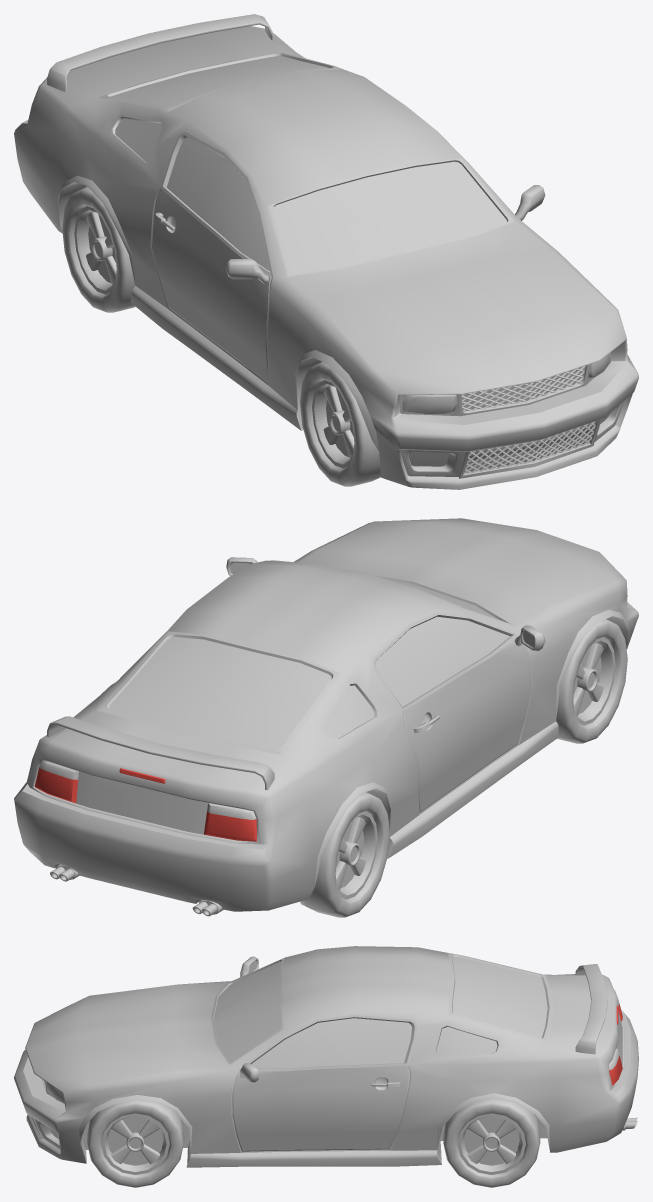
File: SM_Vehicles_05_V1.fbx
The picture shows the model from 3 angles, top to bottom: view 1: azimuth 30°, elevation 25°; view 2: azimuth 150°, elevation 25°; view 3: azimuth 270°, elevation 25°; orthographic projection. The views are drawn at different scales.
Parts seen in each view (by area): view 1: SM_Vehicles_05_V1, SM_Vehicles_05_V2, SM_Vehicles_05_FR, SM_Vehicles_05_RR; view 2: SM_Vehicles_05_V1, SM_Vehicles_05_V2, SM_Vehicles_05_RR, SM_Vehicles_05_FR; view 3: SM_Vehicles_05_V1, SM_Vehicles_05_RL, SM_Vehicles_05_FL, SM_Vehicles_05_V2.
Boxes of the visible parts, x1,y1,x2,y2 form: SM_Vehicles_05_V1: (14,14,638,489); SM_Vehicles_05_V2: (62,54,618,480); SM_Vehicles_05_FR: (300,362,380,486); SM_Vehicles_05_RR: (62,186,135,312); SM_Vehicles_05_V1: (14,518,638,916); SM_Vehicles_05_V2: (108,567,461,856); SM_Vehicles_05_RR: (300,792,389,917); SM_Vehicles_05_FR: (556,619,627,743); SM_Vehicles_05_V1: (14,946,638,1167); SM_Vehicles_05_RL: (443,1098,540,1187); SM_Vehicles_05_FL: (87,1100,184,1187); SM_Vehicles_05_V2: (39,959,618,1162).
Size of the model in its own units: 2 by 1.36 by 4.54.
